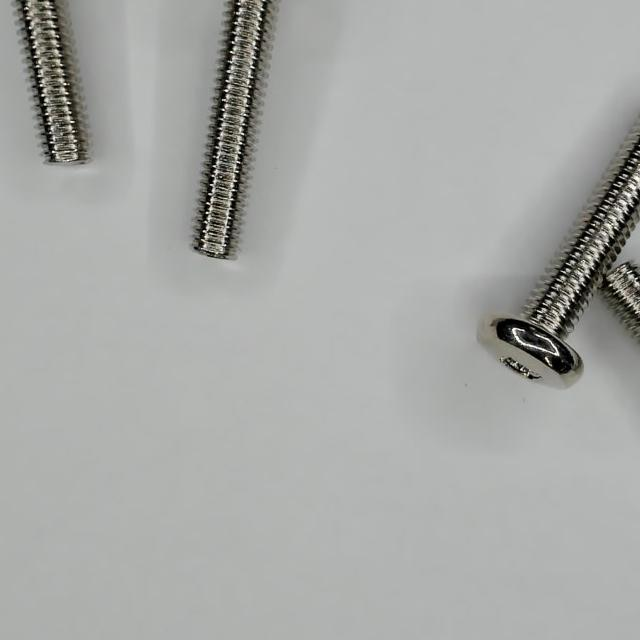Screw: (482, 121, 640, 388), (194, 0, 268, 258), (22, 0, 85, 162), (603, 262, 640, 338)
